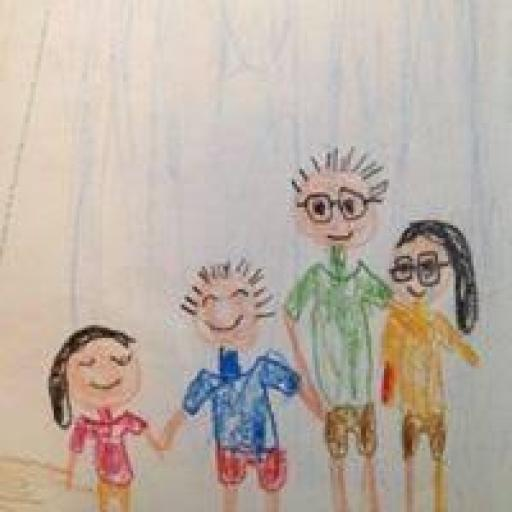person: (284, 140, 394, 510), (156, 256, 298, 510), (376, 216, 494, 508), (44, 321, 154, 510)
